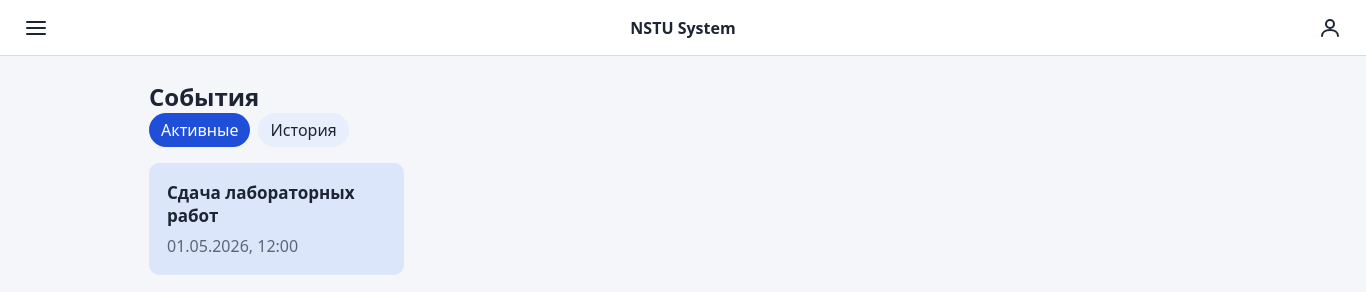
Test: модуль «События» › клик по карточке ведёт на /e/{slug}
Click the link with test id "event-card".
click(276, 219)  # box [149,163,404,275]
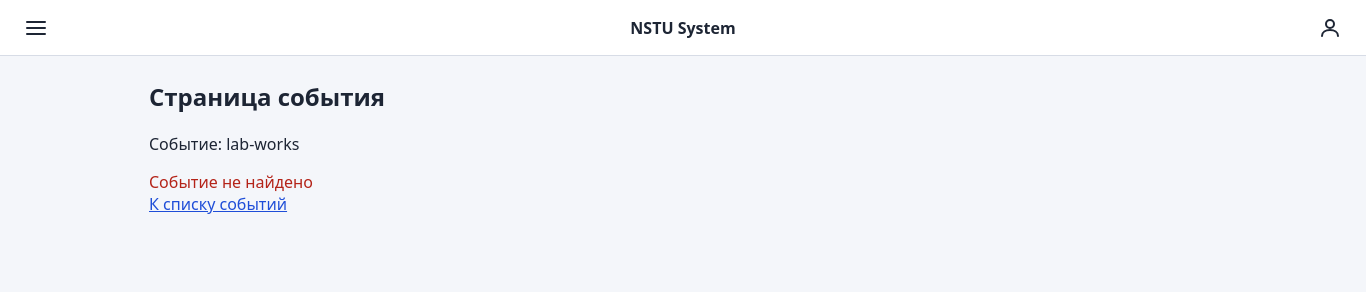
Expected: the heading "Страница события" is shown, [149,80,385,113]
Expected: the text "Событие: lab-works" is shown, [149,133,299,155]
